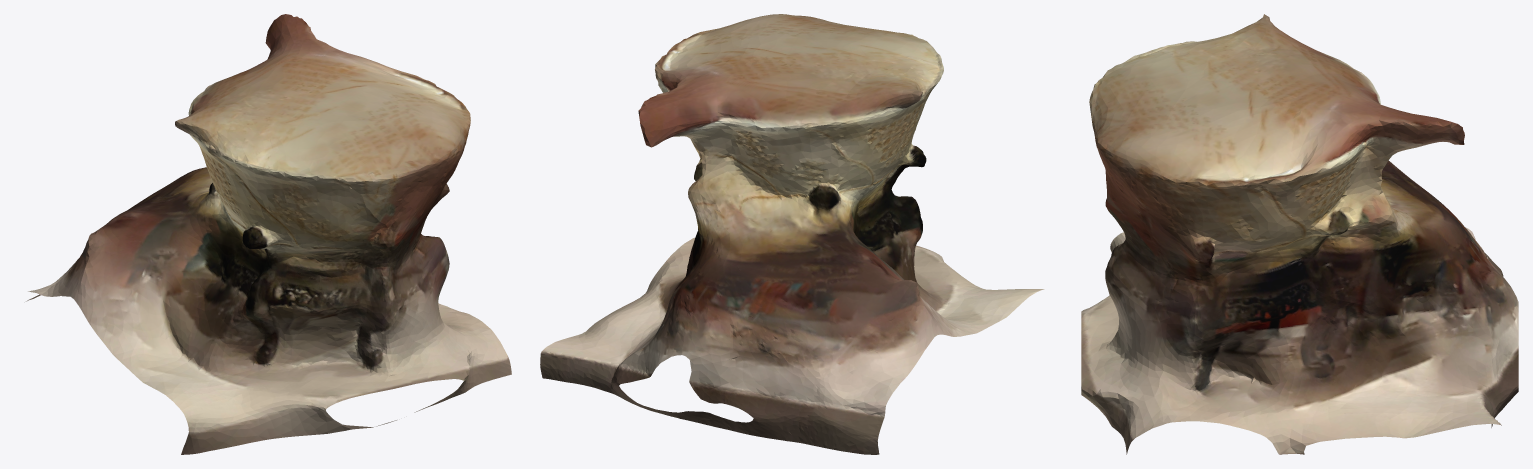
The model's file is collection4.glb.
3 renders of one model, left to right at view 1: azimuth 30°, elevation 25°; view 2: azimuth 150°, elevation 25°; view 3: azimuth 270°, elevation 25°, orthographic. The views are drawn at different scales.
Bounding box in the file's own units: 0.1766 × 0.1402 × 0.1864.
1 material, 1 textured.
